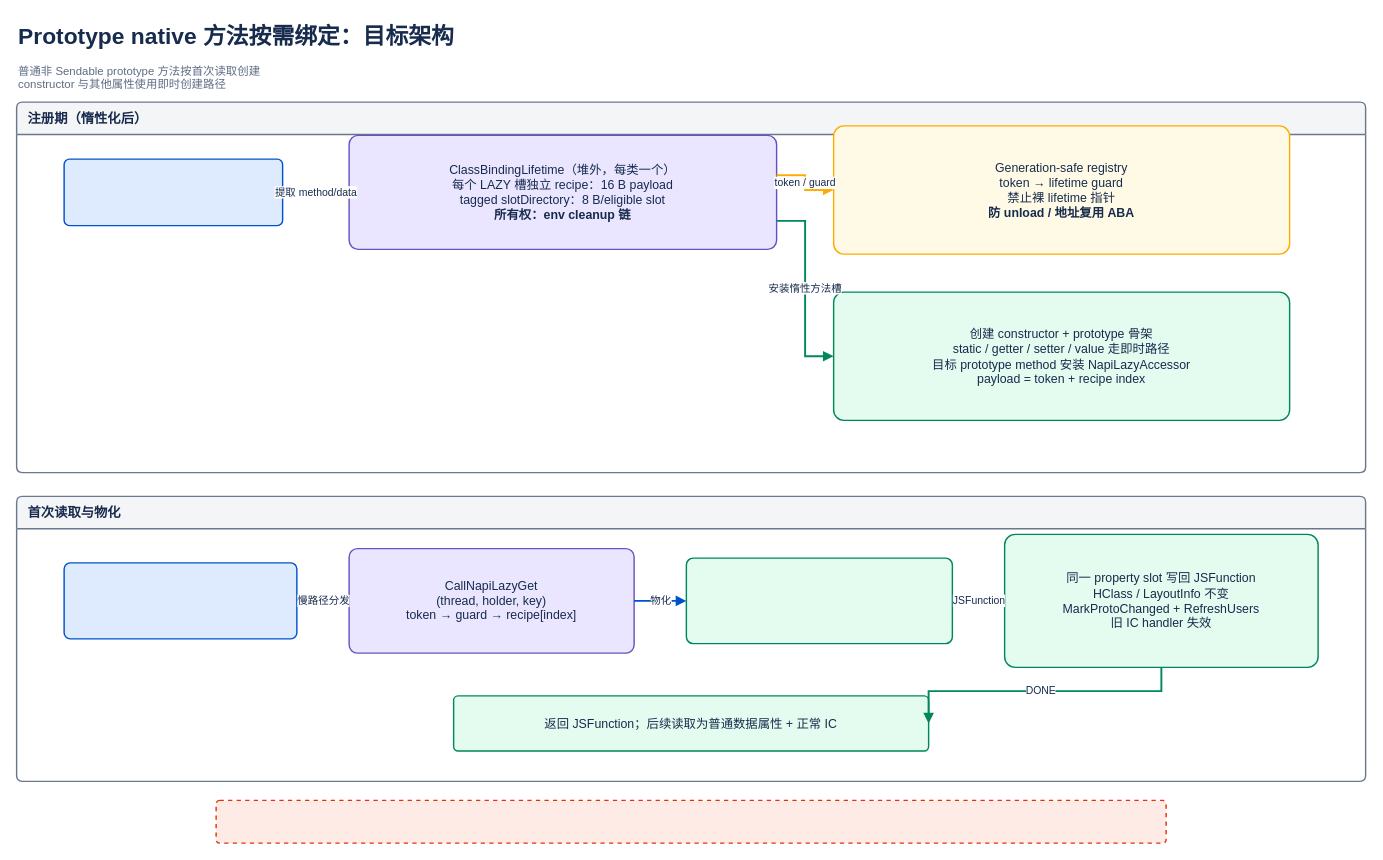
The diagram is 1383 pixels wide and 860 high, and some of its shapes have lost their labels. Each missing label, with the centre of its shape:
napi_define_class env / name / ctor / props[]: the point at 173,192
NapiNativeCreateFunction 复用现行创建链 产物与即时绑定一致: the point at 819,600
proto.m 读取 lookup 命中 NapiLazyAccessor: the point at 180,600
边界：Sendable、static、getter、setter 与 value 保持即时创建；功能由注册期开关控制。: the point at 690,821
